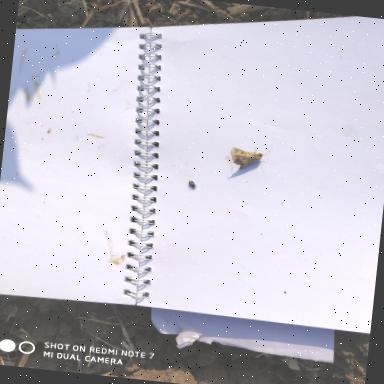abw: (226, 139, 275, 177)
